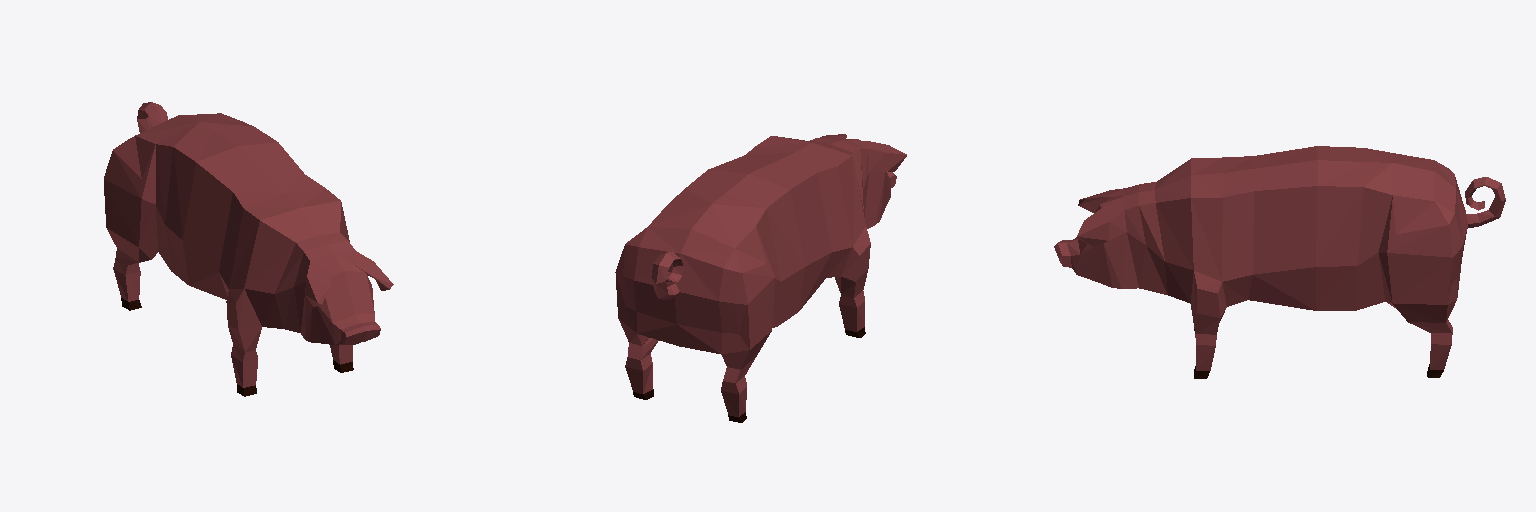
The model's file is pig 1.obj.
3 views of the same model, side by side, from view 1: azimuth 30°, elevation 25°; view 2: azimuth 150°, elevation 25°; view 3: azimuth 270°, elevation 25° (orthographic).
Parts seen in each view (by area): view 1: Pig_Cylinder.001; view 2: Pig_Cylinder.001; view 3: Pig_Cylinder.001.
Boxes of the visible parts, box(x1,y1,x2,y2) form: Pig_Cylinder.001: box(104, 102, 393, 396); Pig_Cylinder.001: box(615, 134, 906, 422); Pig_Cylinder.001: box(1054, 146, 1505, 378).
Size of the model in its own units: 1.65 by 2.29 by 4.89.